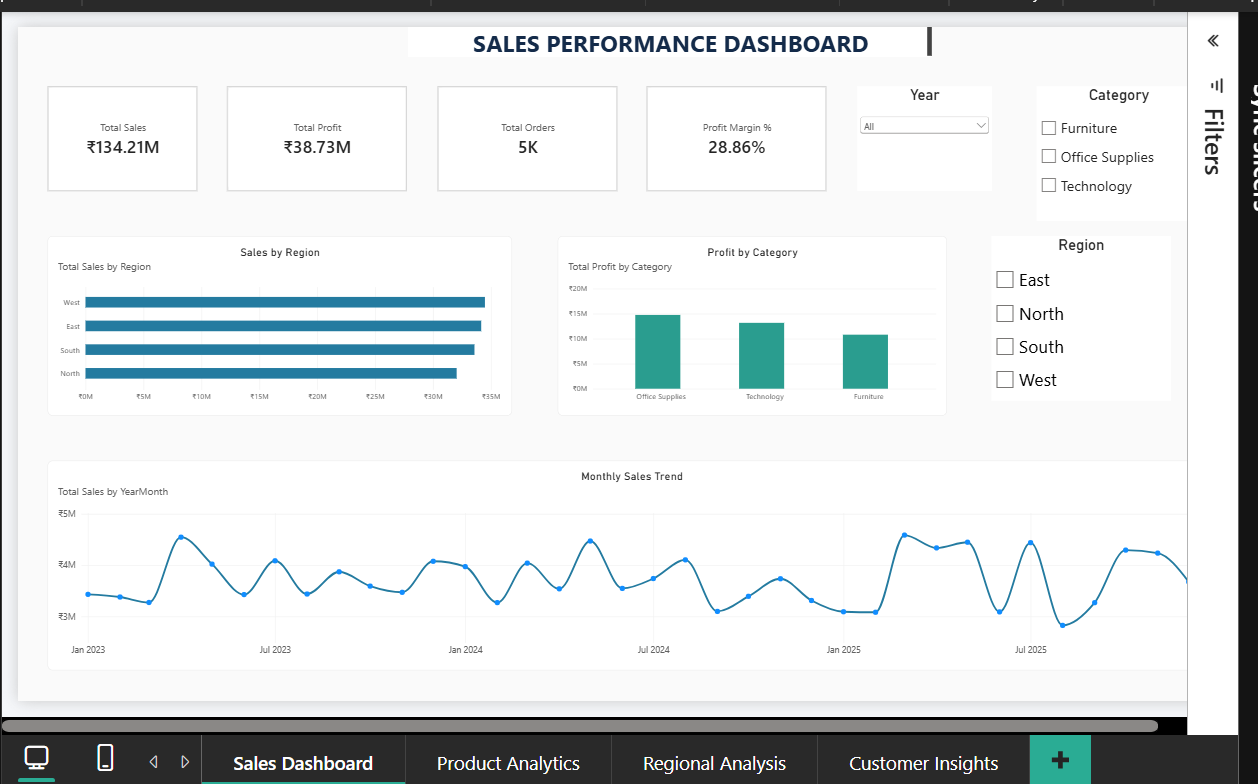

Layout of this report page (visuals, bound fields, positions):
{"tool":"powerbi","page":{"name":"Sales Dashboard","canvas":[1920,1080],"ordinal":0},"visuals":[{"type":"cardVisual","fields":{"Data":["Measures (2).Total Sales"]},"box":[48,96,240,168],"z":0},{"type":"cardVisual","fields":{"Data":["Measures (2).Total Profit"]},"box":[336,96,288,168],"z":1000},{"type":"cardVisual","fields":{"Data":["Measures (2).Total Orders"]},"box":[672,96,288,168],"z":2000},{"type":"cardVisual","fields":{"Data":["Measures (2).Profit Margin %"]},"box":[1008,96,288,168],"z":3000},{"type":"lineChart","title":"Monthly Sales Trend","fields":{"Category":["DimDate.YearMonth"],"Y":["Measures (2).Total Sales"]},"box":[48,696,1872,336],"z":4000},{"type":"clusteredBarChart","title":"Sales by Region","fields":{"Category":["DimCustomers.Region"],"Y":["Measures (2).Total Sales"]},"box":[48,336,744,288],"z":5000},{"type":"clusteredColumnChart","title":"Profit by Category","fields":{"Category":["DimProducts.Category"],"Y":["Measures (2).Total Profit"]},"box":[864,336,624,288],"z":6000},{"type":"textbox","box":[624,0,840,48],"z":7000},{"type":"slicer","title":"Year","fields":{"Values":["DimDate.Year"]},"box":[1344,96,216,168],"z":8000},{"type":"slicer","title":"Category","fields":{"Values":["DimProducts.Category"]},"box":[1632,96,264,216],"z":9000},{"type":"slicer","title":"Region","fields":{"Values":["DimCustomers.Region"]},"box":[1560,336,288,264],"z":10000}]}

Visuals, with their boxes on the page's 1920x1080 design canvas (x1, y1, x2, y2). These are canvas units, not pixel positions in the 1258x784 screenshot, which may show the page scaled, cropped or inside an application window:
cardVisual - Measures (2).Total Sales: <box>48,96,288,264</box>
cardVisual - Measures (2).Total Profit: <box>336,96,624,264</box>
cardVisual - Measures (2).Total Orders: <box>672,96,960,264</box>
cardVisual - Measures (2).Profit Margin %: <box>1008,96,1296,264</box>
"Monthly Sales Trend" lineChart: <box>48,696,1920,1032</box>
"Sales by Region" clusteredBarChart: <box>48,336,792,624</box>
"Profit by Category" clusteredColumnChart: <box>864,336,1488,624</box>
textbox: <box>624,0,1464,48</box>
"Year" slicer: <box>1344,96,1560,264</box>
"Category" slicer: <box>1632,96,1896,312</box>
"Region" slicer: <box>1560,336,1848,600</box>
